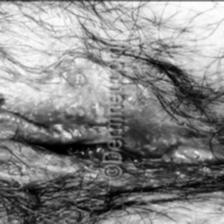Toxin: (48, 103, 108, 143)
